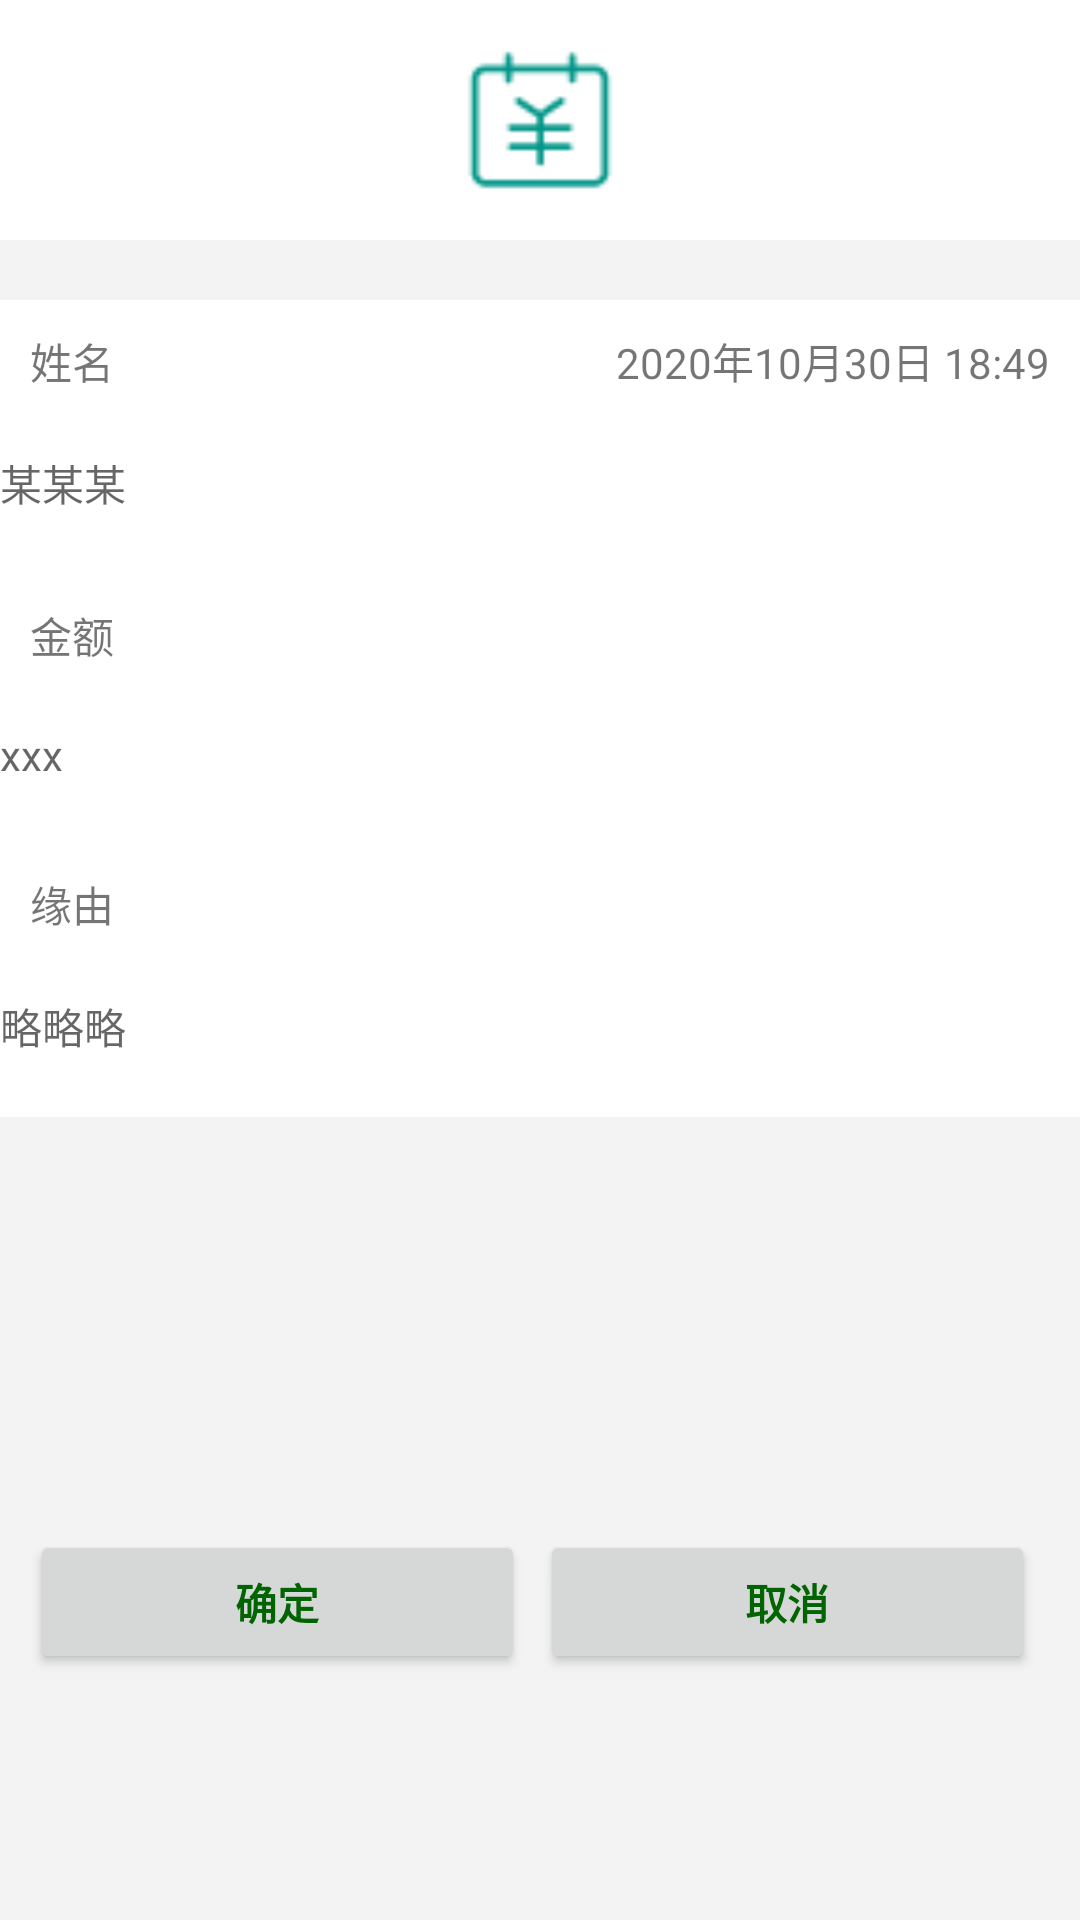

Named icons in this screenshot (1080×1920) and their centers, (x,y):
zhang: (540,120)
